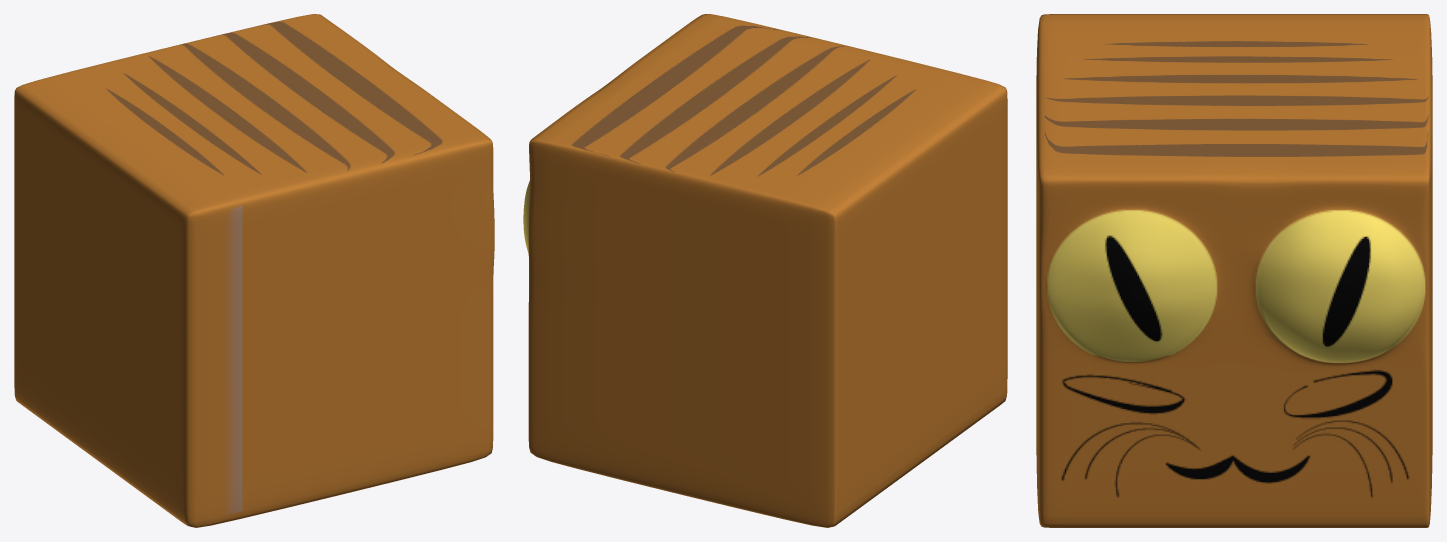
The model's file is Cat_model_updated.fbx.
3 views of the same model, side by side, from view 1: azimuth 30°, elevation 25°; view 2: azimuth 150°, elevation 25°; view 3: azimuth 270°, elevation 25° (orthographic). The views are drawn at different scales.
Visible parts, largest first — view 1: Character_cube; view 2: Character_cube; view 3: Character_cube.
Part boxes in pixels (<box>): Character_cube: <box>14,14,494,527</box>; Character_cube: <box>523,14,1007,527</box>; Character_cube: <box>1036,14,1432,527</box>.
Size of the model in its own units: 109 by 99.89 by 99.89.
